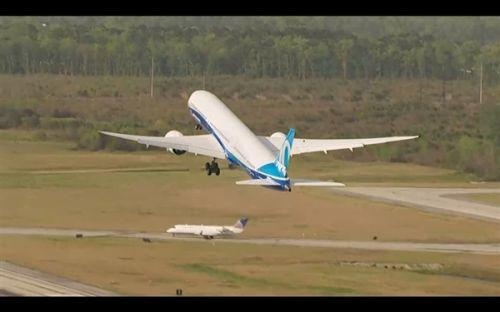airplane: (96, 86, 417, 192)
